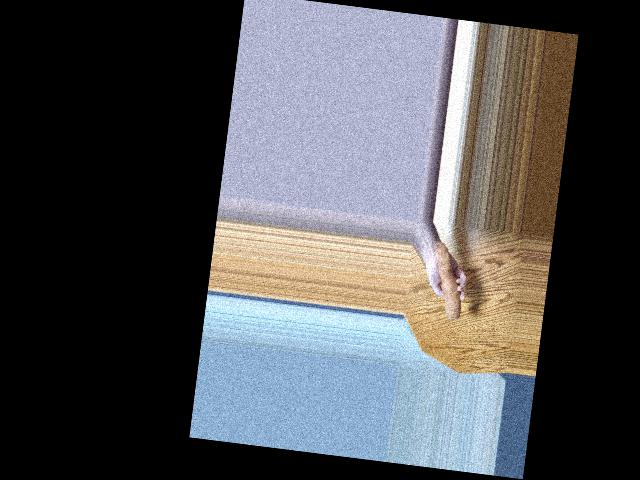sweet_potato: (430, 251, 471, 332)
